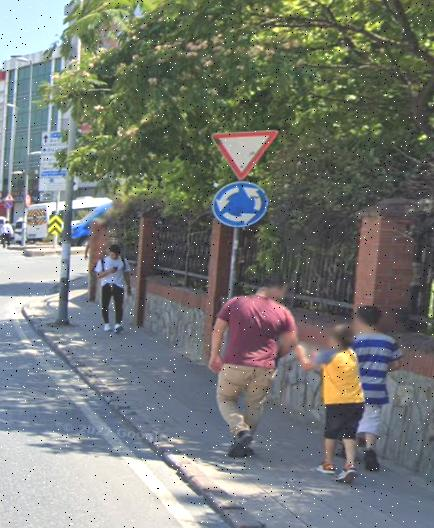crossroads: (208, 180, 274, 234)
